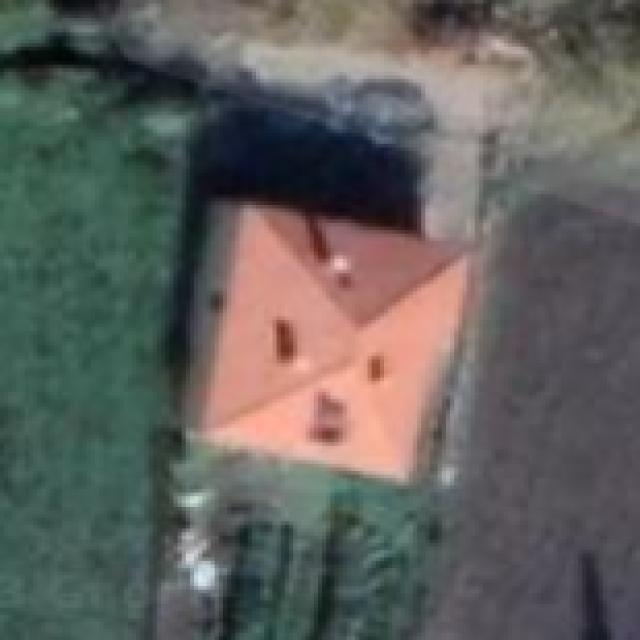Batiment: (201, 204, 465, 482)
